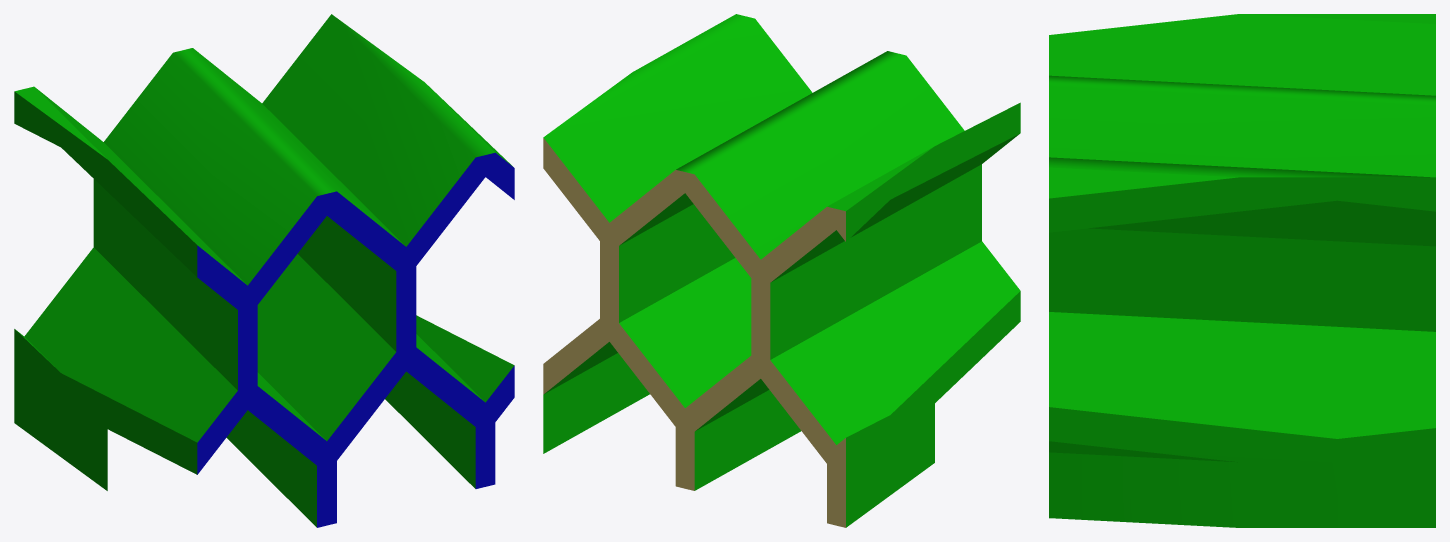
Rendered from br-m-fence-green.fbx.
3 renders of one model, left to right at view 1: azimuth 30°, elevation 25°; view 2: azimuth 150°, elevation 25°; view 3: azimuth 270°, elevation 25°, orthographic. The views are drawn at different scales.
Parts seen in each view (by area): view 1: pCube657; view 2: pCube657; view 3: pCube657.
Part boxes in pixels (x1,y1,x2,y2): pCube657: (14,14,514,527); pCube657: (543,14,1020,527); pCube657: (1049,14,1435,527).
Bounding box in the file's own units: 1 × 1 × 1.
